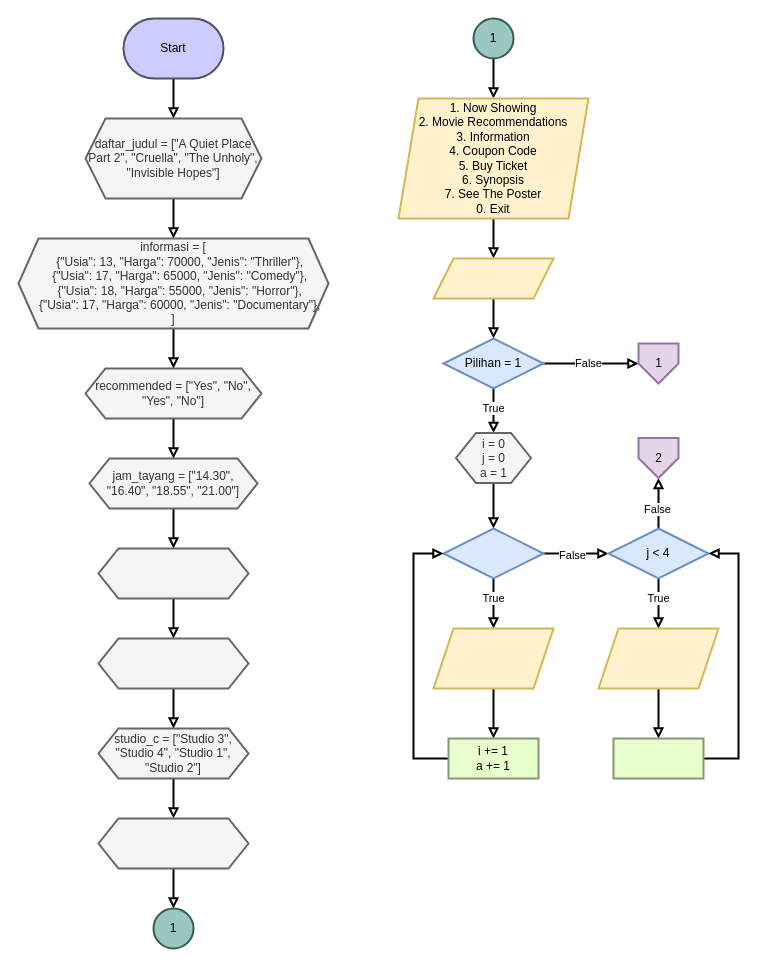
Image size: 764x966. Some labels were removed from this diagram. The shapes that lost their labels are listed below. From the top down, each one's centre as x and y in pixels, then its label:
(493,278): Pilihan
(173,573): studio_a = ["Studio 1", "Studio 2", "Studio 3", "studio 4"]
(493,553): i < 4
(173,663): studio_b = ["Studio 2", "Studio 3", "Studio 4", "Studio 1"]
(493,658): print("a) Jam Tayang")
(658,658): print("* Daftar Judul")
(658,758): j += 1
(173,843): studio_d = ["Studio 4", "Studio 1", "Studio 2", "Studio 3"]
